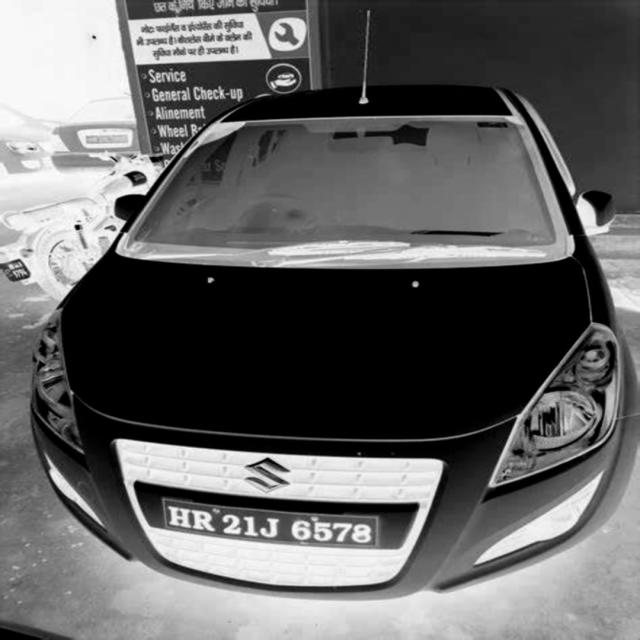Non_registered: (162, 492, 384, 551)
